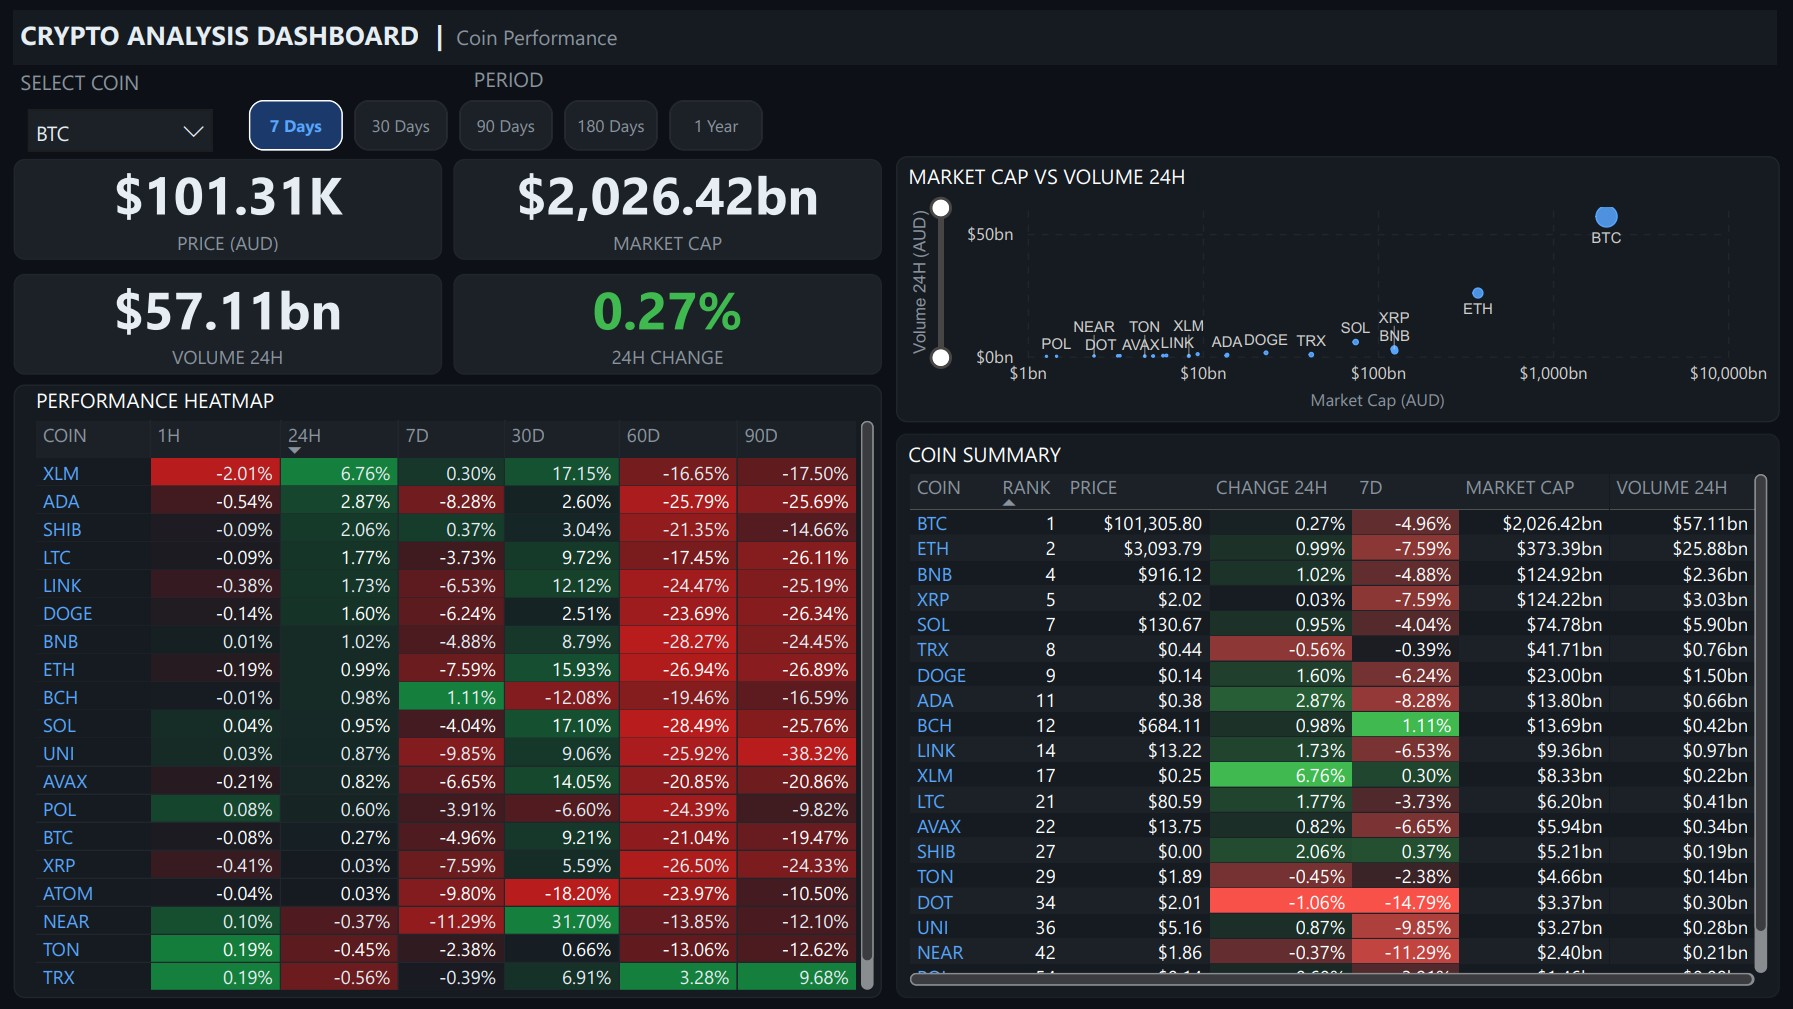

The page's visual inventory and layout, read from the dashboard file:
{"tool":"powerbi","page":{"name":"Coin Performance","canvas":[1280,720],"ordinal":1},"visuals":[{"type":"slicer","title":"SELECT COIN","fields":{"Values":["dim_coin.symbol"]},"box":[10,46,152,64],"z":0},{"type":"card","fields":{"Values":["_Measures.Latest Price"]},"box":[10,113,306,72],"z":2000},{"type":"card","fields":{"Values":["_Measures.Latest Market Cap"]},"box":[324,113,306,72],"z":3000},{"type":"card","fields":{"Values":["_Measures.Latest Volume 24H"]},"box":[10,195,306,72],"z":4000},{"type":"card","fields":{"Values":["_Measures.Latest 24H Change"]},"box":[324,195,306,72],"z":5000},{"type":"pivotTable","title":"PERFORMANCE HEATMAP","fields":{"Values":["_Measures.Latest 1H Change","_Measures.Latest 24H Change","_Measures.Latest 7D Change","_Measures.Latest 30D Change","_Measures.Latest 60D Change","_Measures.Latest 90D Change"],"Rows":["dim_coin.symbol"]},"box":[10,274,620,438],"z":6000},{"type":"scatterChart","title":"MARKET CAP VS VOLUME 24H","fields":{"X":["_Measures.Latest Market Cap"],"Y":["_Measures.Latest Volume 24H"],"Size":["_Measures.Latest Market Cap"],"Category":["dim_coin.symbol"]},"box":[640,111.3,629.6,189.8],"z":7000},{"type":"tableEx","title":"COIN SUMMARY","fields":{"Values":["dim_coin.symbol","_Measures.Latest Rank","_Measures.Latest Price","_Measures.Latest 24H Change","_Measures.Latest 7D Change","_Measures.Latest Market Cap","_Measures.Latest Volume 24H"]},"box":[640,309,631,403],"z":8000},{"type":"textbox","box":[10,7,1259,39],"z":9000}]}

Visuals, with their boxes in screenshot pixels (x1, y1, x2, y2), scaled from the page's 1280x720 canvas onto the 1793x1009 screenshot:
"SELECT COIN" slicer: <box>14,64,227,154</box>
card - _Measures.Latest Price: <box>14,158,443,259</box>
card - _Measures.Latest Market Cap: <box>454,158,882,259</box>
card - _Measures.Latest Volume 24H: <box>14,273,443,374</box>
card - _Measures.Latest 24H Change: <box>454,273,882,374</box>
"PERFORMANCE HEATMAP" pivotTable: <box>14,384,882,998</box>
"MARKET CAP VS VOLUME 24H" scatterChart: <box>896,156,1778,422</box>
"COIN SUMMARY" tableEx: <box>896,433,1780,998</box>
textbox: <box>14,10,1778,64</box>
